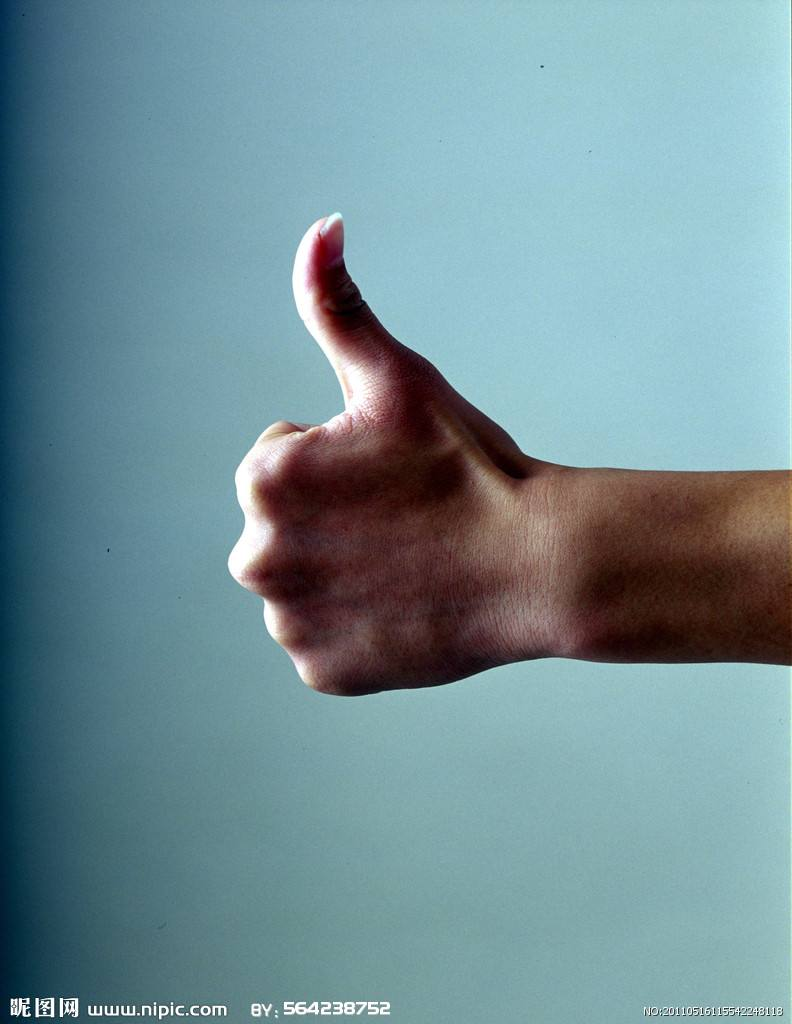no-phone: (218, 208, 564, 706)
